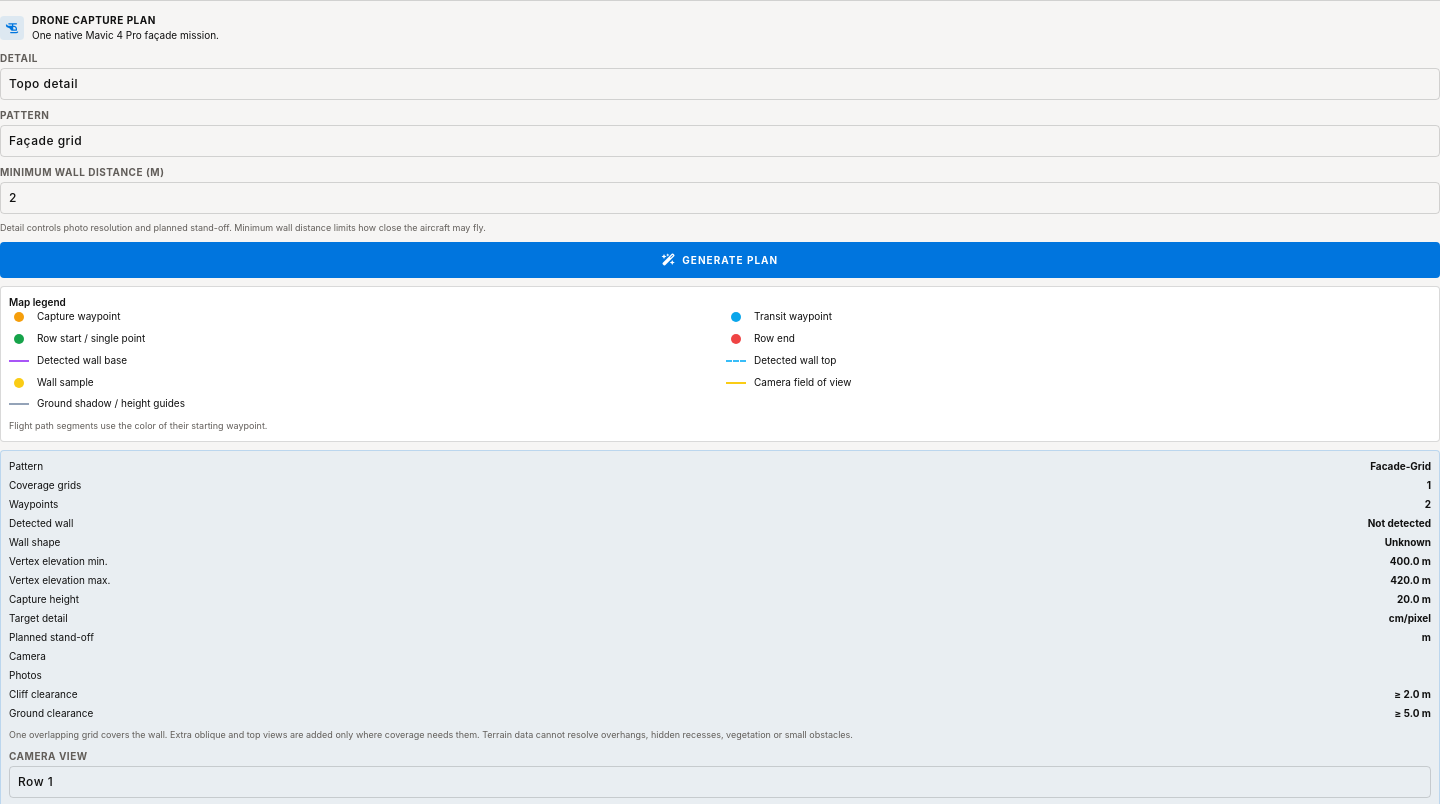
Test: restores a generated mission after remounting and clears its preview on a failed regeneration
This screenshot has width=1440, height=804.
Click the button "Generate plan". click: (720, 260)
box: [0,242,1439,278]
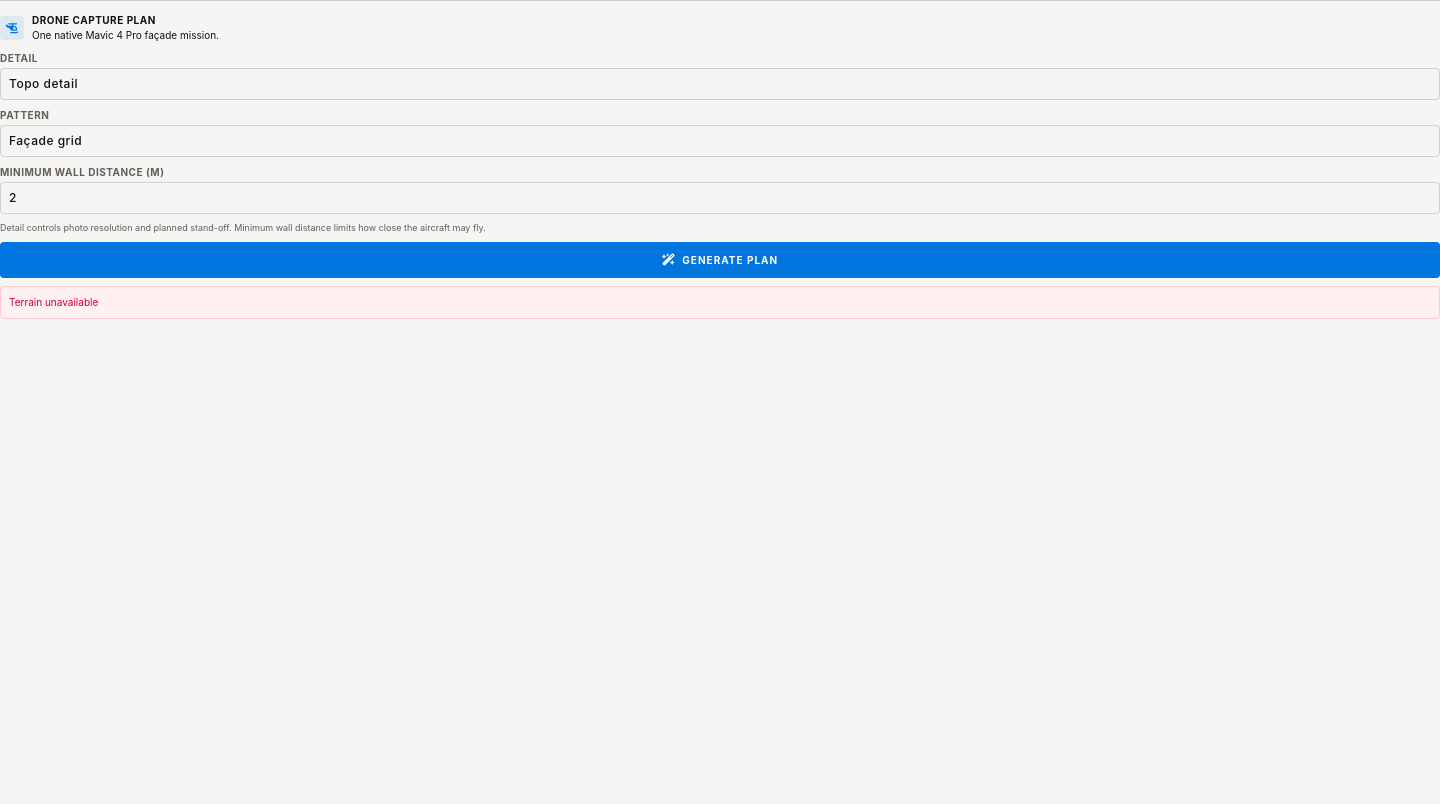
Expected: the text "Terrain unavailable" is shown, [0,286,1439,319]
